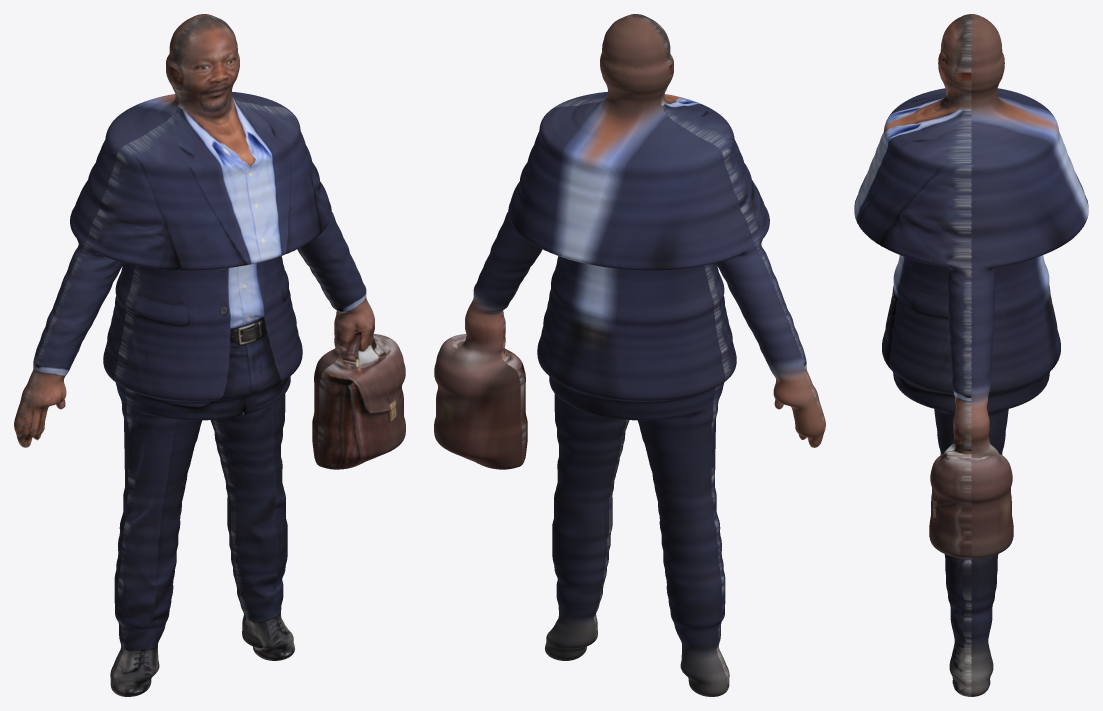
The model's file is pnj_homme_affaires.glb.
3 renders of one model, left to right at view 1: azimuth 30°, elevation 25°; view 2: azimuth 150°, elevation 25°; view 3: azimuth 270°, elevation 25°, orthographic. The views are drawn at different scales.
Parts seen in each view (by area): view 1: pnj_homme_affaires; view 2: pnj_homme_affaires; view 3: pnj_homme_affaires.
Part boxes in pixels (left/top/right/bottom): pnj_homme_affaires: left=14, top=14, right=405, bottom=696; pnj_homme_affaires: left=434, top=14, right=825, bottom=696; pnj_homme_affaires: left=854, top=14, right=1088, bottom=696.
Size of the model in its own units: 1.1 by 1.8 by 0.5969.
1 material, 1 textured.
